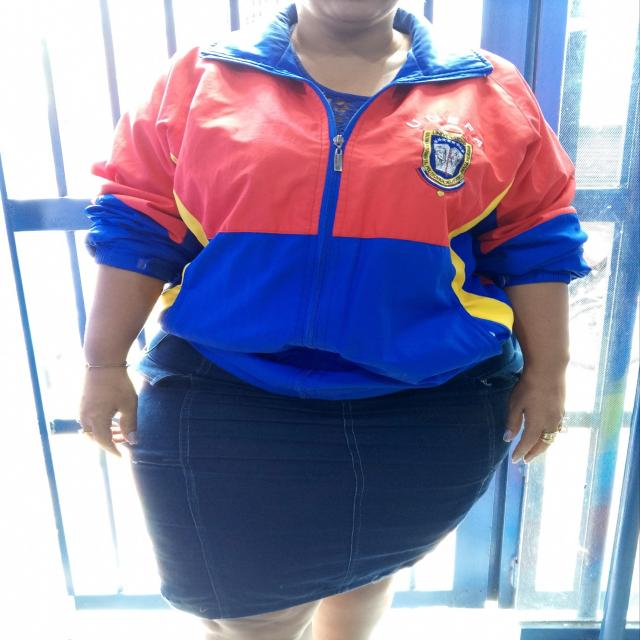chaqueta_unefa: (84, 3, 594, 402)
